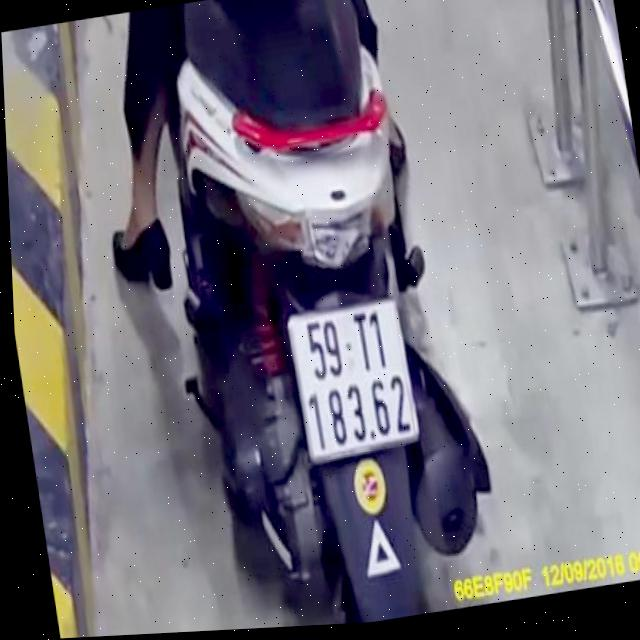motorcycle: (131, 0, 514, 633)
plate: (278, 294, 427, 466)
